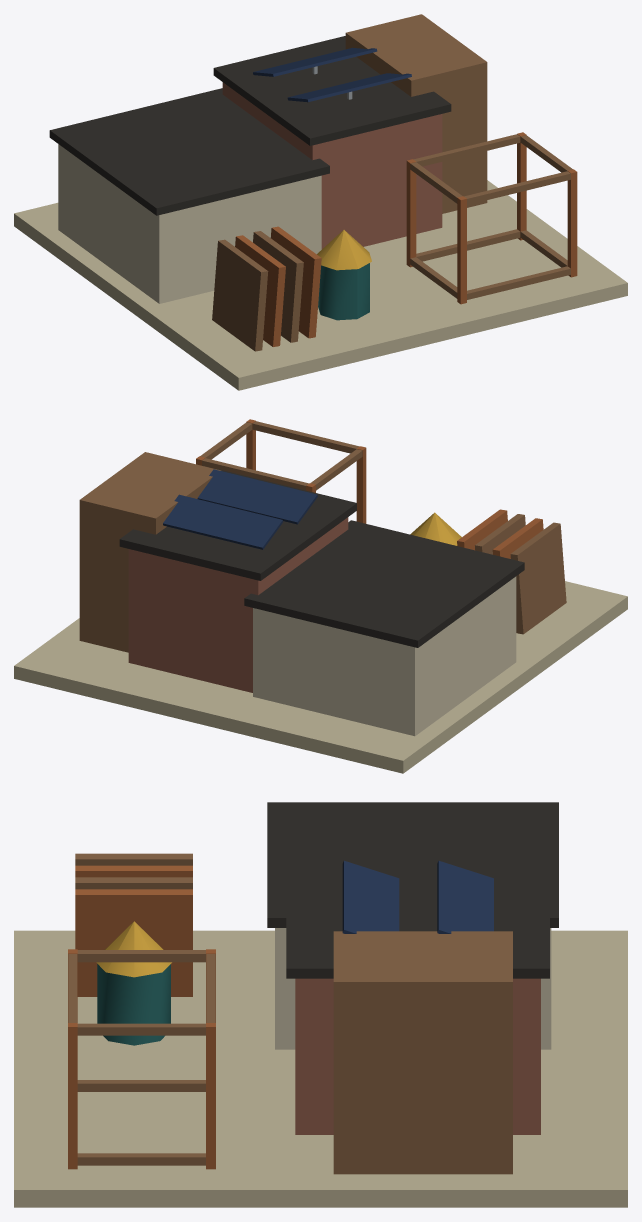
Rendered from b11-freight-crate-mill-v2-lod0.glb.
The picture shows the model from 3 angles, top to bottom: view 1: azimuth 30°, elevation 25°; view 2: azimuth 150°, elevation 25°; view 3: azimuth 270°, elevation 25°; orthographic projection. The views are drawn at different scales.
Visible parts, largest first — view 1: MESH_B11_FREIGHT_CRATE_MILL; view 2: MESH_B11_FREIGHT_CRATE_MILL; view 3: MESH_B11_FREIGHT_CRATE_MILL.
Boxes of the visible parts, box(x1,y1,x2,y2) form: MESH_B11_FREIGHT_CRATE_MILL: box(14, 14, 627, 390); MESH_B11_FREIGHT_CRATE_MILL: box(14, 419, 627, 773); MESH_B11_FREIGHT_CRATE_MILL: box(14, 802, 627, 1207).
Size of the model in its own units: 12 by 4.62 by 12.
